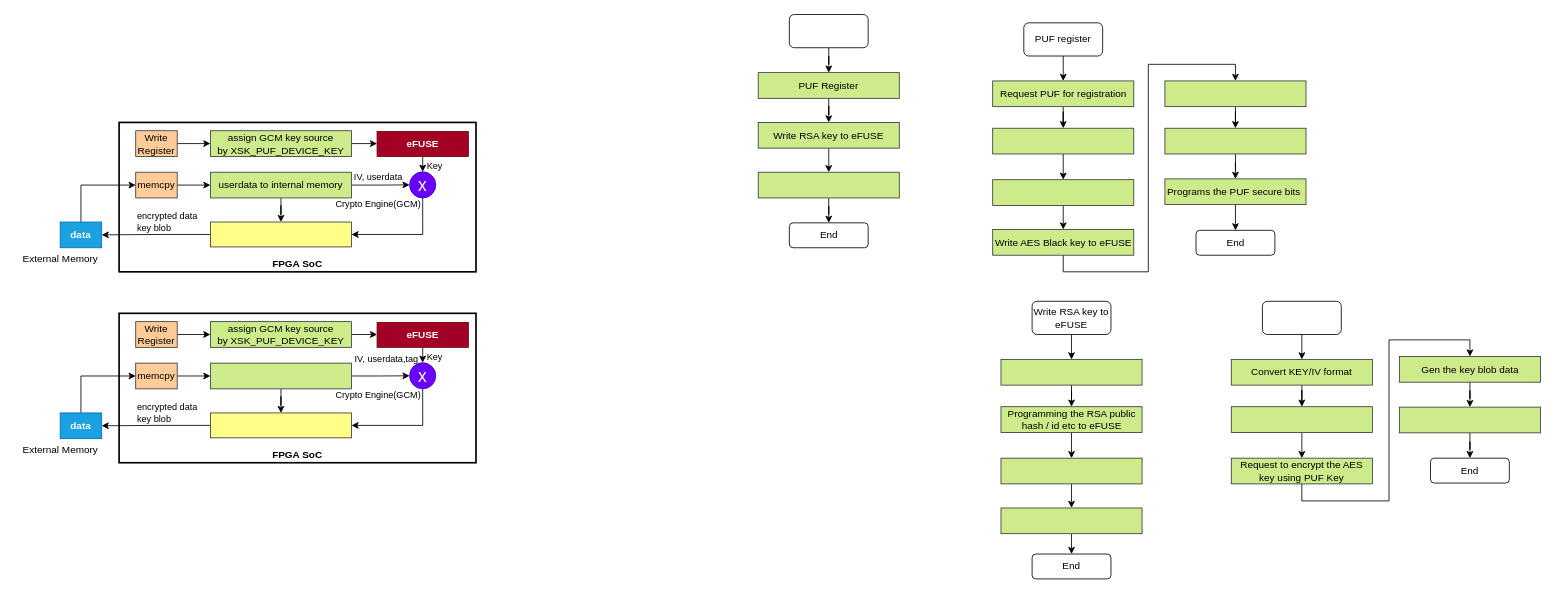
This 1555x593 diagram has some shape labels left out. The shapes that lost their labels are listed below. From the top down, each one's box as (x1, y1, x2, y2) in pixels, then its label:
(788, 14, 868, 48): Start
(1164, 80, 1306, 107): Convert syndrome data to CHASH/Aux data
(992, 127, 1134, 154): Generate PUF syndrome data
(1164, 127, 1306, 154): Write the CHASH/Aux data to eFUSE
(757, 171, 899, 198): Write Linux Kernel KUP key to SD card
(992, 179, 1134, 205): Request AES engine to encrypt the AES key using PUF Key
(210, 221, 352, 247): gen key blob
(1262, 300, 1341, 334): Write KUP key to SD card
(210, 362, 352, 389): userdata to internal memory parse key blob iv etc
(1000, 359, 1142, 385): Initiate the Efuse PS instance
(210, 412, 352, 438): parse plain text
(1230, 406, 1372, 432): Spin up the PUF and connect the key to the AES engine
(1399, 406, 1540, 433): Copy the data blob to the SD card.
(1000, 457, 1142, 484): Read keys from cache
(1000, 507, 1142, 534): CRC check for programmed AES key
